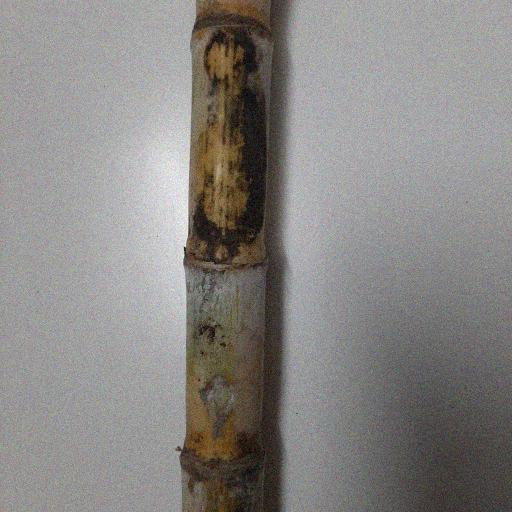Bud: (212, 242, 233, 266)
